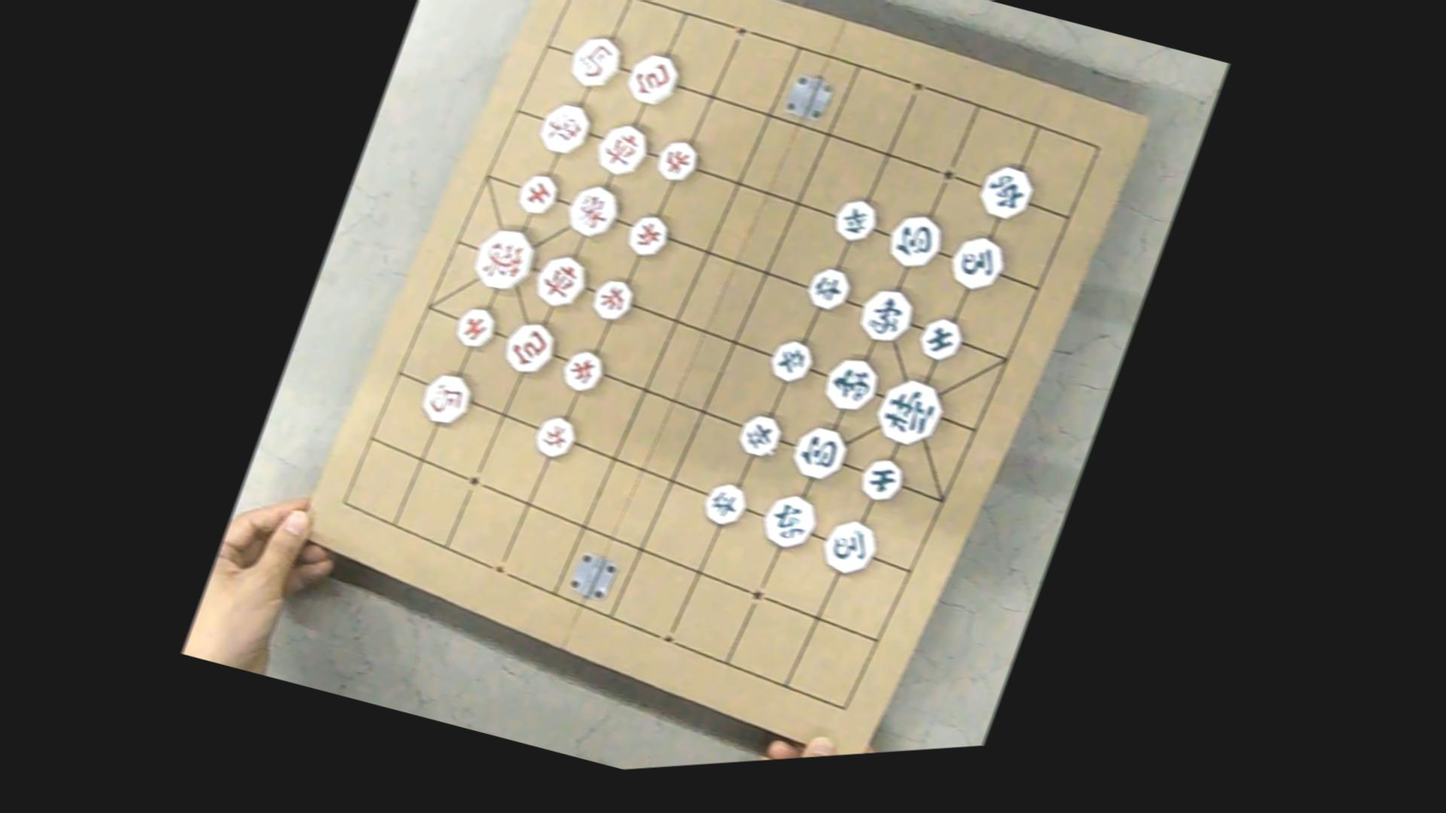cha_green: (755, 489, 822, 556), (972, 160, 1038, 226)
cha_red: (529, 249, 593, 315), (590, 118, 654, 181)
jol_green: (764, 335, 817, 388), (828, 194, 881, 247), (697, 479, 750, 531), (733, 410, 785, 463), (802, 263, 854, 315)
jol_red: (586, 275, 637, 326), (622, 210, 673, 261), (529, 412, 579, 464), (651, 136, 702, 186), (557, 346, 607, 396)
ma_green: (944, 230, 1010, 297), (816, 516, 882, 581)
ma_red: (564, 30, 627, 93), (415, 368, 477, 431)
po_green: (786, 420, 853, 487), (881, 208, 948, 274)
po_red: (496, 316, 561, 382), (621, 49, 684, 111)
sa_green: (854, 454, 908, 507), (914, 313, 966, 365)
sa_red: (511, 169, 562, 220), (450, 302, 501, 352)
sang_green: (853, 282, 919, 349), (817, 352, 883, 418)
sang_red: (560, 178, 624, 245), (533, 97, 596, 160)
wang_green: (868, 371, 949, 452)
wang_red: (465, 221, 542, 298)
